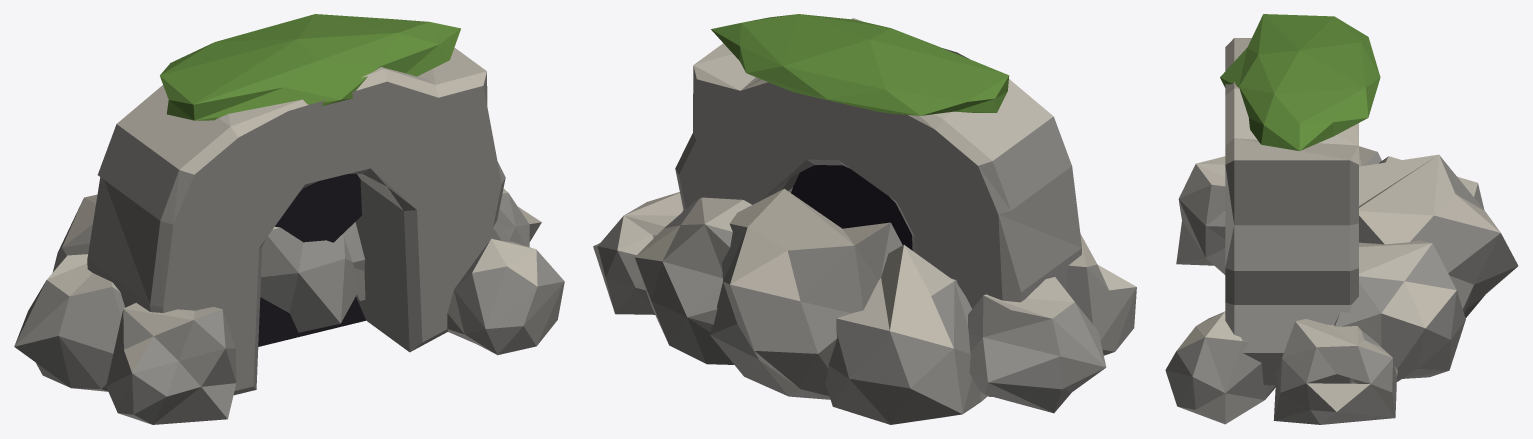
File: caveEntrance.glb
3 renders of one model, left to right at view 1: azimuth 30°, elevation 25°; view 2: azimuth 150°, elevation 25°; view 3: azimuth 270°, elevation 25°, orthographic. The views are drawn at different scales.
Parts seen in each view (by area): view 1: Cave rock face, Cave boulders, Cave moss, Cave darkness; view 2: Cave boulders, Cave rock face, Cave moss, Cave darkness; view 3: Cave boulders, Cave rock face, Cave moss.
Part boxes in pixels (left/top/right/bottom): Cave rock face: left=87, top=47, right=510, bottom=395; Cave boulders: left=14, top=188, right=564, bottom=424; Cave moss: left=160, top=14, right=460, bottom=120; Cave darkness: left=258, top=174, right=365, bottom=346; Cave boulders: left=593, top=188, right=1136, bottom=424; Cave rock face: left=675, top=18, right=1081, bottom=308; Cave moss: left=711, top=14, right=1009, bottom=115; Cave darkness: left=791, top=165, right=912, bottom=250; Cave boulders: left=1165, top=146, right=1518, bottom=424; Cave rock face: left=1225, top=38, right=1358, bottom=385; Cave moss: left=1220, top=14, right=1380, bottom=150.
Size of the model in its own units: 3.79 by 2.1 by 2.38.
